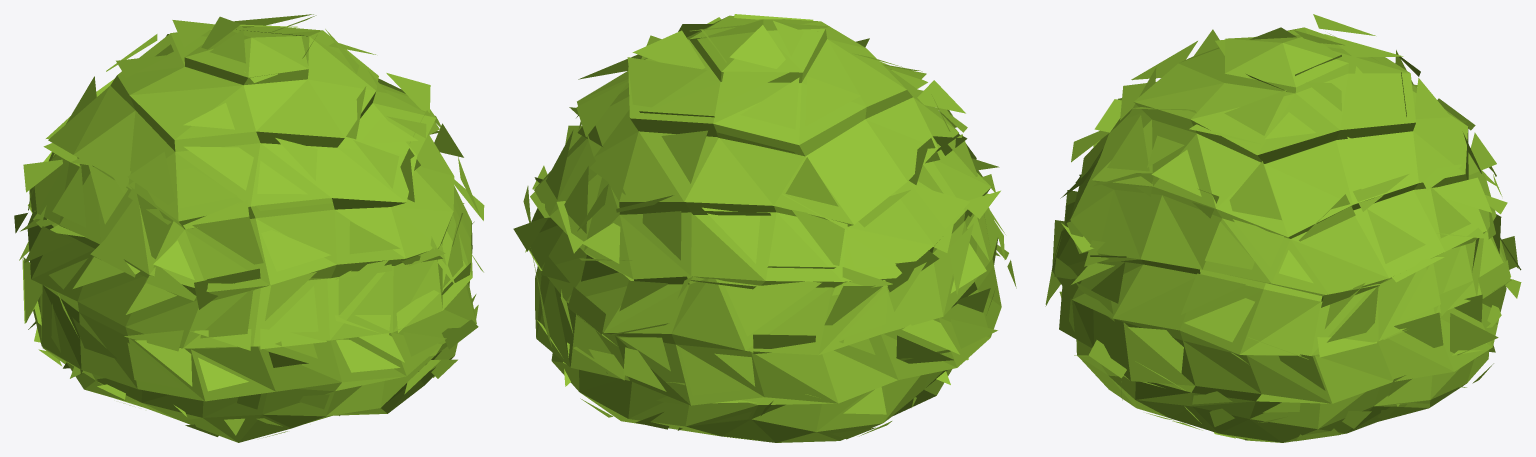
The model's file is bushA.fbx.
The picture shows the model from 3 angles, left to right: view 1: azimuth 30°, elevation 25°; view 2: azimuth 150°, elevation 25°; view 3: azimuth 270°, elevation 25°; orthographic projection. The views are drawn at different scales.
Parts seen in each view (by area): view 1: leaves.003, extraleaves.002; view 2: leaves.003, extraleaves.002; view 3: leaves.003, extraleaves.002.
Part boxes in pixels (left/top/right/bottom): leaves.003: left=27, top=26, right=476, bottom=442; extraleaves.002: left=14, top=14, right=484, bottom=437; leaves.003: left=529, top=15, right=1001, bottom=442; extraleaves.002: left=513, top=14, right=1016, bottom=440; leaves.003: left=1052, top=27, right=1510, bottom=442; extraleaves.002: left=1045, top=14, right=1521, bottom=441.
Size of the model in its own units: 212 by 174 by 210.
